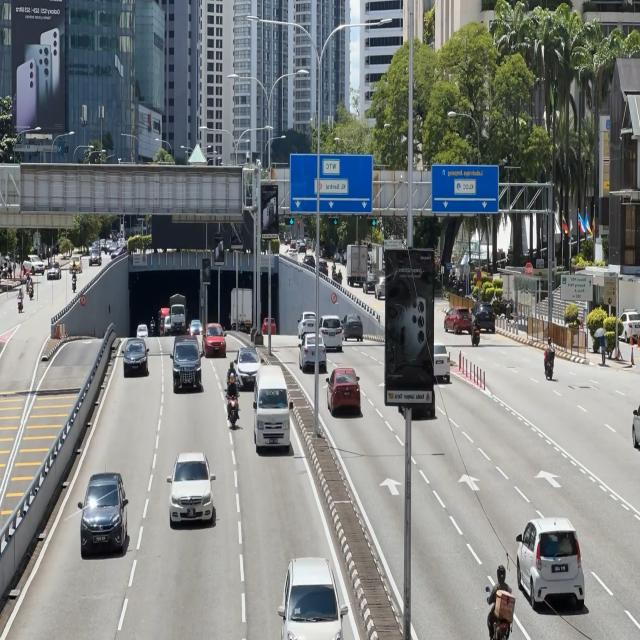Car: (514, 512, 583, 604), (279, 555, 342, 640), (80, 470, 131, 556), (166, 449, 214, 532), (252, 364, 290, 454), (172, 334, 202, 395), (327, 367, 359, 418), (298, 334, 327, 374), (123, 338, 150, 378), (236, 345, 260, 389), (443, 304, 472, 338), (318, 312, 342, 353), (201, 321, 227, 358), (472, 300, 497, 332), (342, 312, 363, 345), (432, 346, 451, 379)
